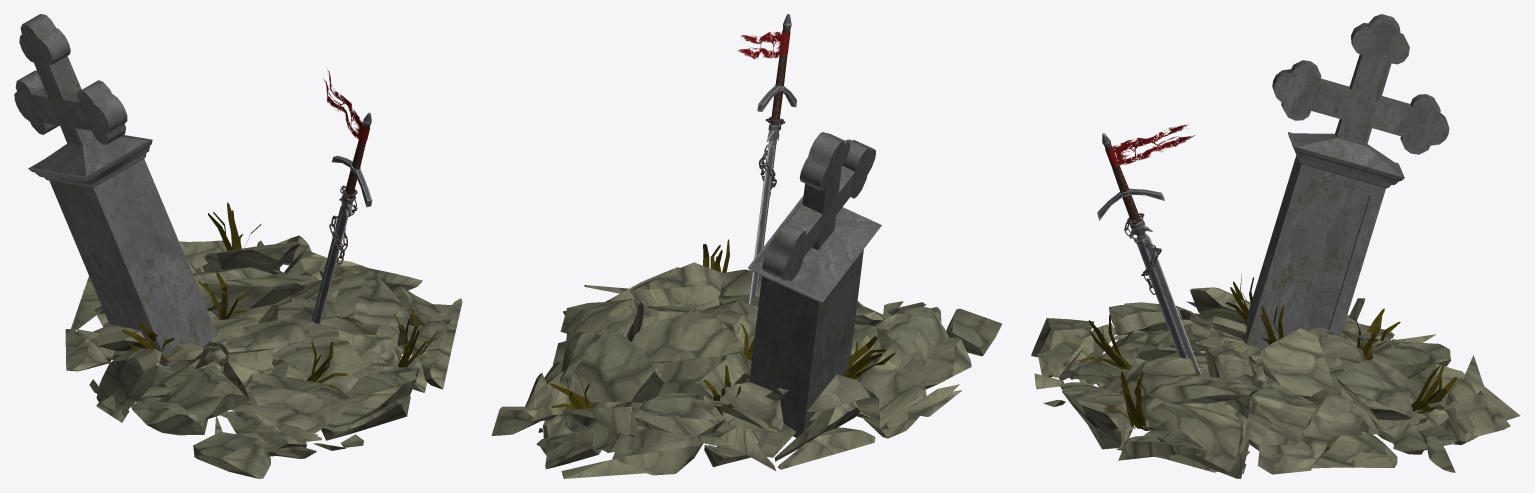
3 views of the same model, side by side, from view 1: azimuth 30°, elevation 25°; view 2: azimuth 150°, elevation 25°; view 3: azimuth 270°, elevation 25° (orthographic). The views are drawn at different scales.
Visible parts, largest first — view 1: stone, grave_low, grass, sword, wrap, chain; view 2: stone, grave_low, sword, grass, wrap; view 3: stone, grave_low, grass, sword, wrap, chain.
Boxes of the visible parts, box(x1,y1,x2,y2) form: stone: box(65, 235, 462, 478); grave_low: box(14, 14, 217, 366); grass: box(122, 202, 438, 390); sword: box(311, 112, 372, 324); wrap: box(323, 69, 369, 145); chain: box(329, 185, 357, 264); stone: box(491, 262, 1002, 478); grave_low: box(748, 132, 881, 437); sword: box(748, 14, 796, 304); grass: box(550, 239, 895, 415); wrap: box(738, 30, 790, 59); stone: box(1031, 287, 1520, 478); grave_low: box(1242, 14, 1449, 347); grass: box(1078, 274, 1457, 429); sword: box(1097, 133, 1201, 374); wrap: box(1105, 124, 1195, 165); chain: box(1124, 213, 1161, 294).
Size of the model in its own units: 1998 by 1835 by 2430.
6 materials, 5 textured.
